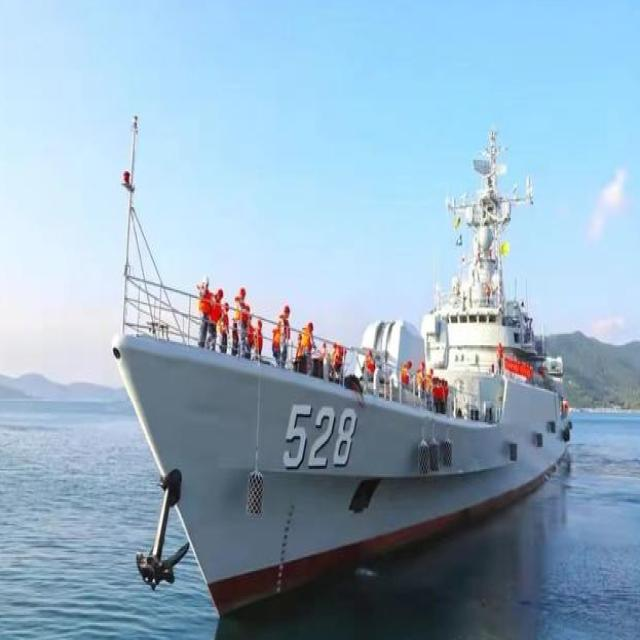navalvessels: (104, 103, 578, 622)
